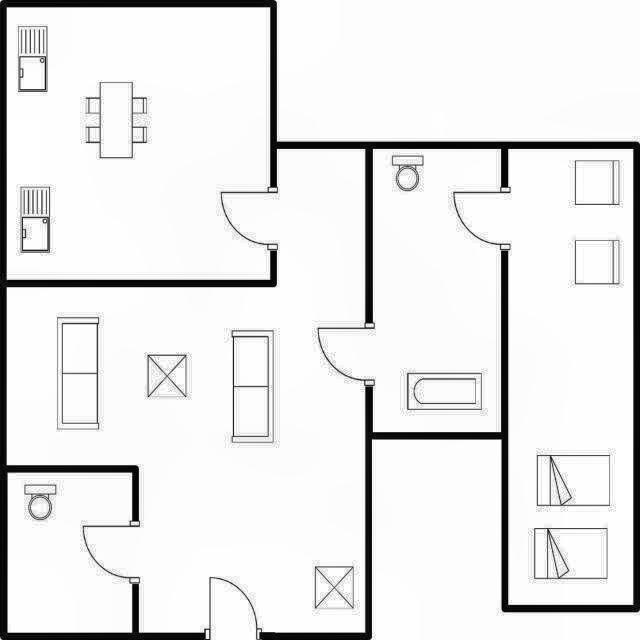room: (6, 149, 366, 633), (7, 8, 269, 279), (509, 148, 634, 605), (374, 148, 500, 432), (7, 473, 132, 632)
